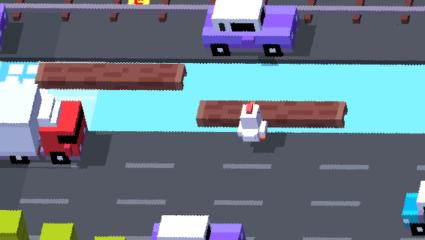hen: (238, 105, 266, 143)
obstacle: (0, 84, 90, 163), (203, 0, 297, 58), (155, 216, 246, 240), (403, 180, 425, 235), (0, 210, 29, 240), (42, 224, 78, 240)
timber: (39, 63, 187, 91), (197, 100, 347, 126)
